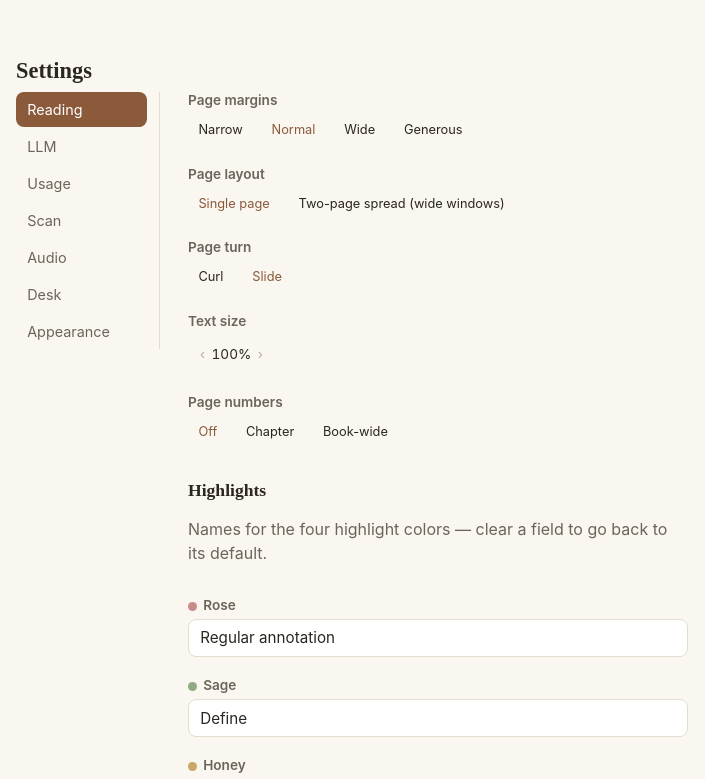
Test: SettingsPage binder › switching to the LLM tab shows both provider roles
Click the tab "LLM".
click(82, 146)  # box x1=16 y1=129 x2=147 y2=164
(page scrolled)
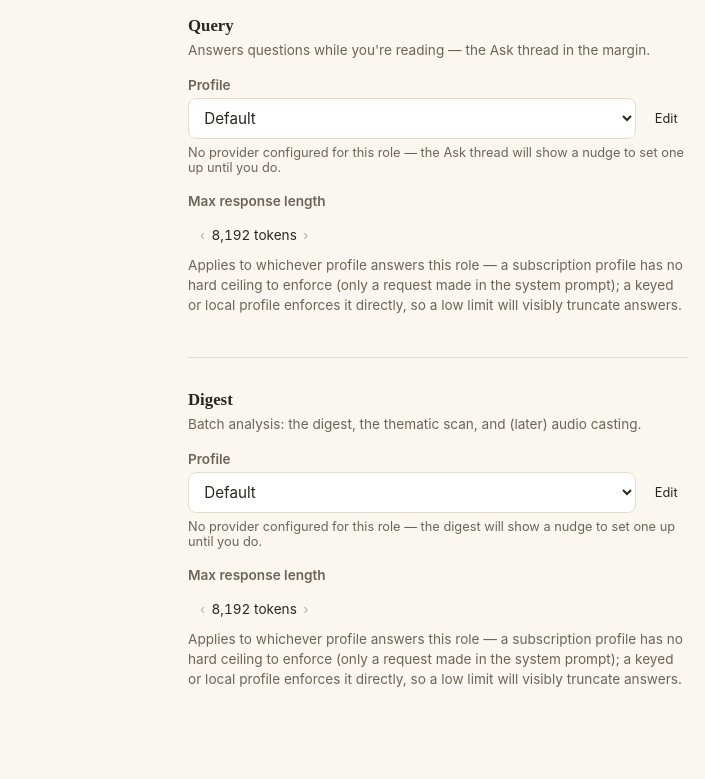
Result: the heading "Query" is shown at x1=188 y1=16 x2=234 y2=35
Result: the heading "Digest" is shown at x1=188 y1=390 x2=233 y2=409
